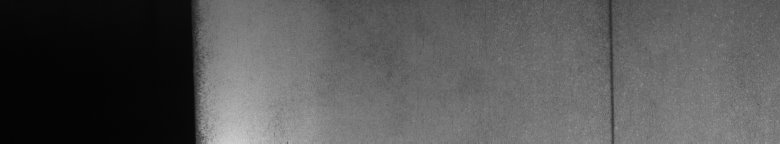hd: (600, 4, 625, 136)
